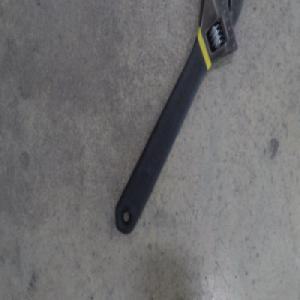AdjustableWrench: (115, 0, 244, 235)
